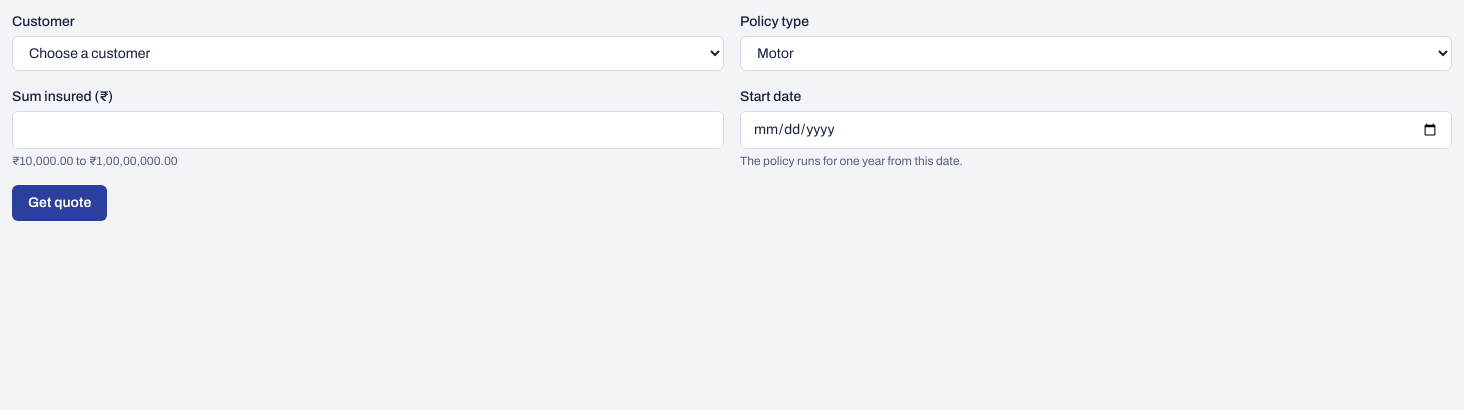
Test: PolicyForm quote and issue › gets a quote and then issues the policy with the quoted values
The image size is (1464, 410).
Select "Nisha Rao" in the dropdown labelled "Customer" at (368, 54), box [12, 36, 724, 71]
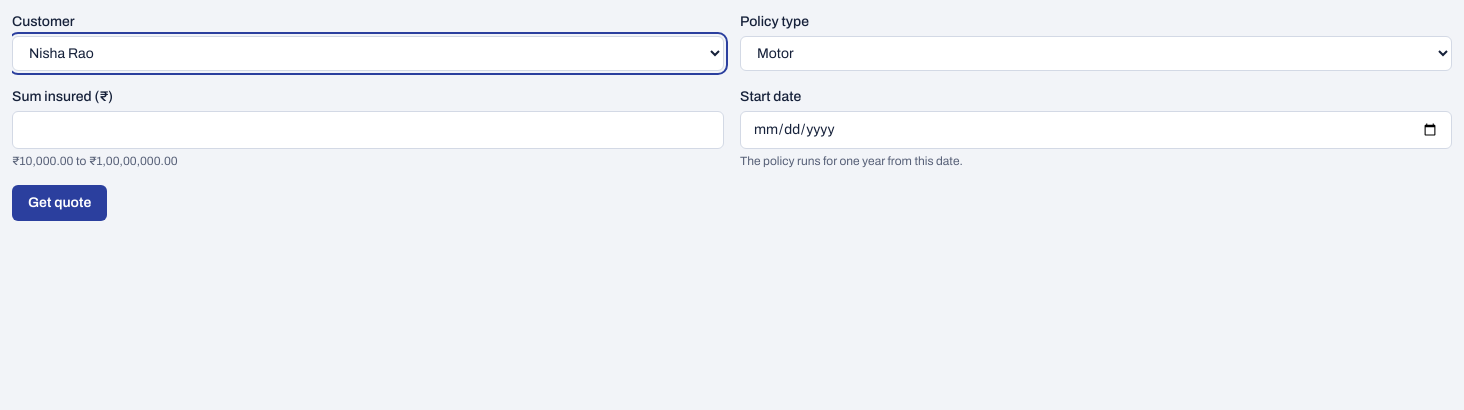
Select "Health" in the dropdown labelled "Policy type" at (1096, 54), box [740, 36, 1452, 71]
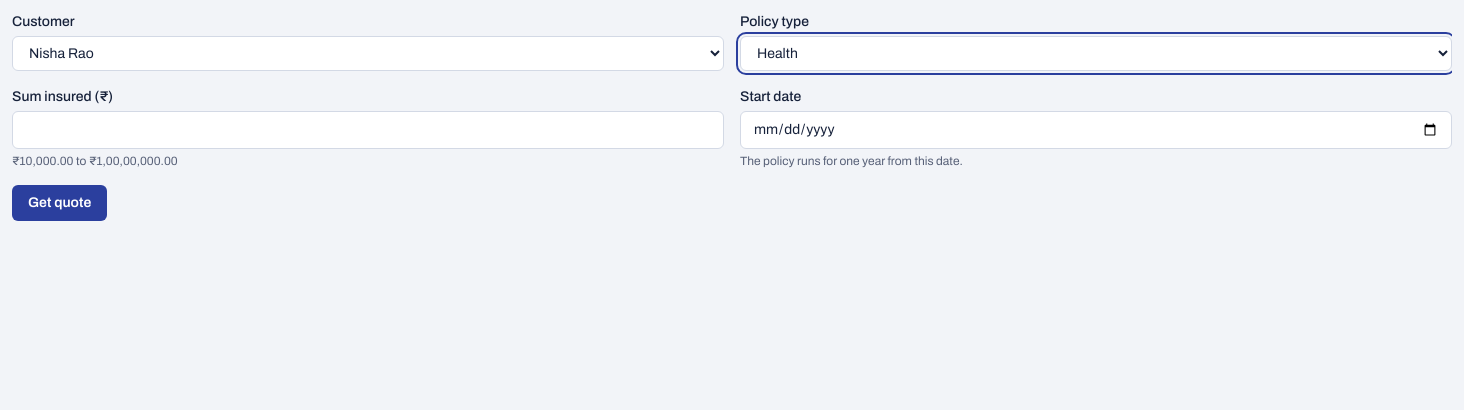
Type "500000" into the number field labelled "Sum insured (₹)" at (368, 130), box [12, 111, 724, 149]
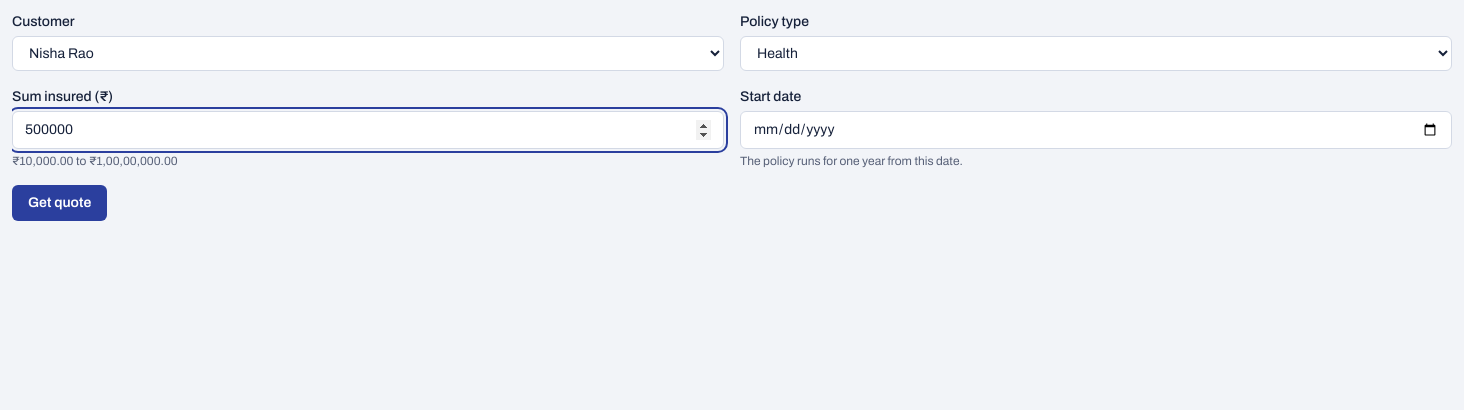
Type "2026-11-01" into the date field labelled "Start date" at (1096, 130), box [740, 111, 1452, 149]
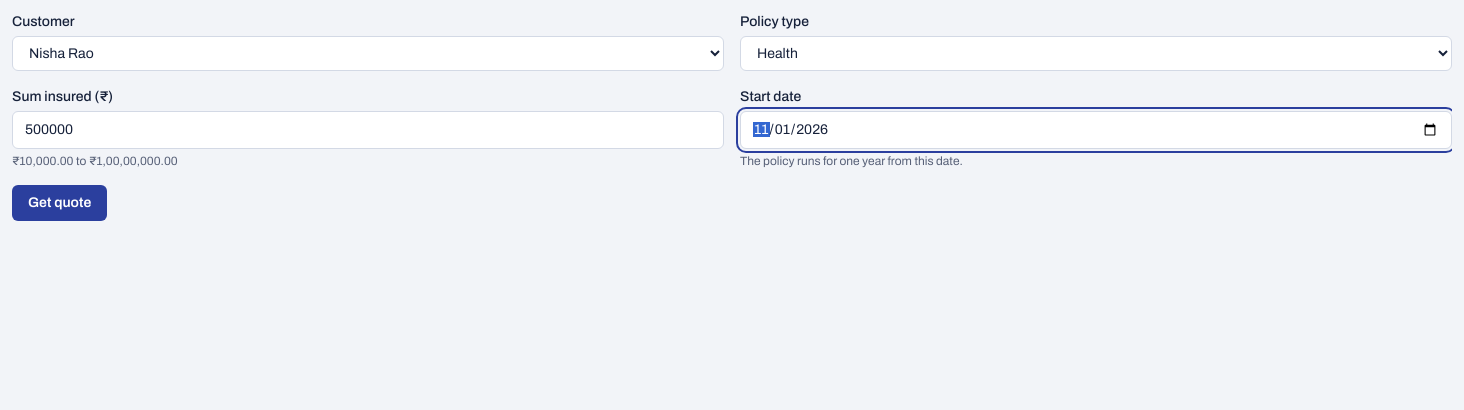
Click the button "Get quote" at (60, 203), box [12, 185, 107, 221]
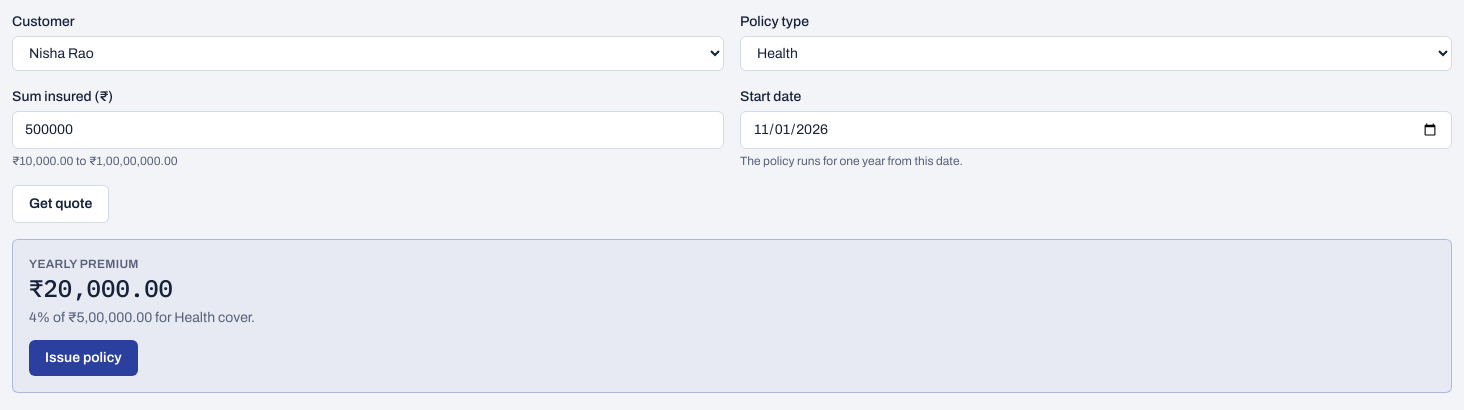
Expected: the element named "Quote" shows "₹20,000.00", [29, 272, 173, 304]
Expected: the element named "Quote" shows "4% of ₹5,00,000.00 for Health cover.", [12, 239, 1452, 393]
Click the button "Issue policy" at (83, 358), box [29, 340, 138, 376]
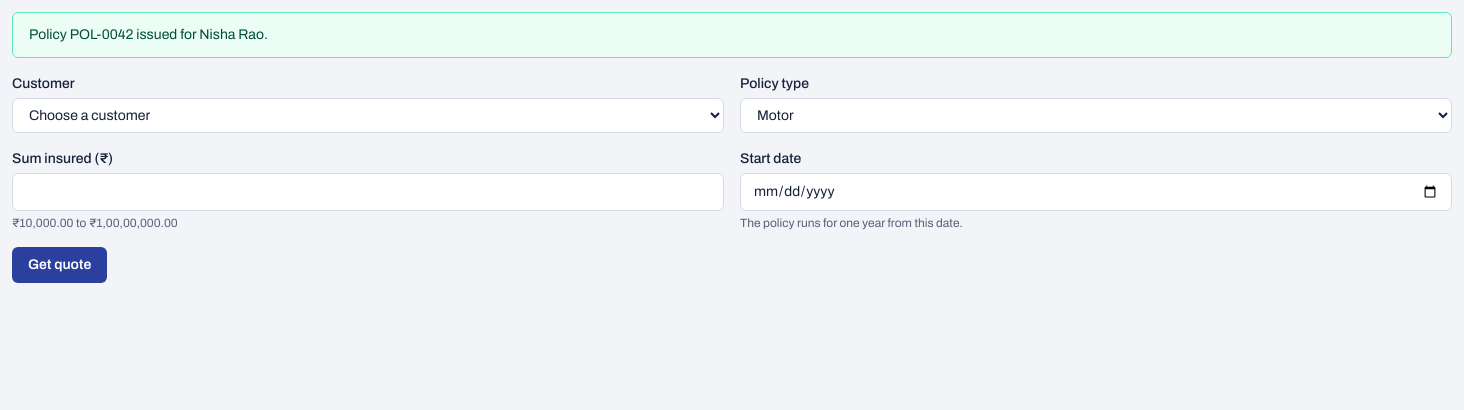
Expected: the message reads "Policy POL-0042 issued for Nisha Rao.", [12, 12, 1452, 58]
